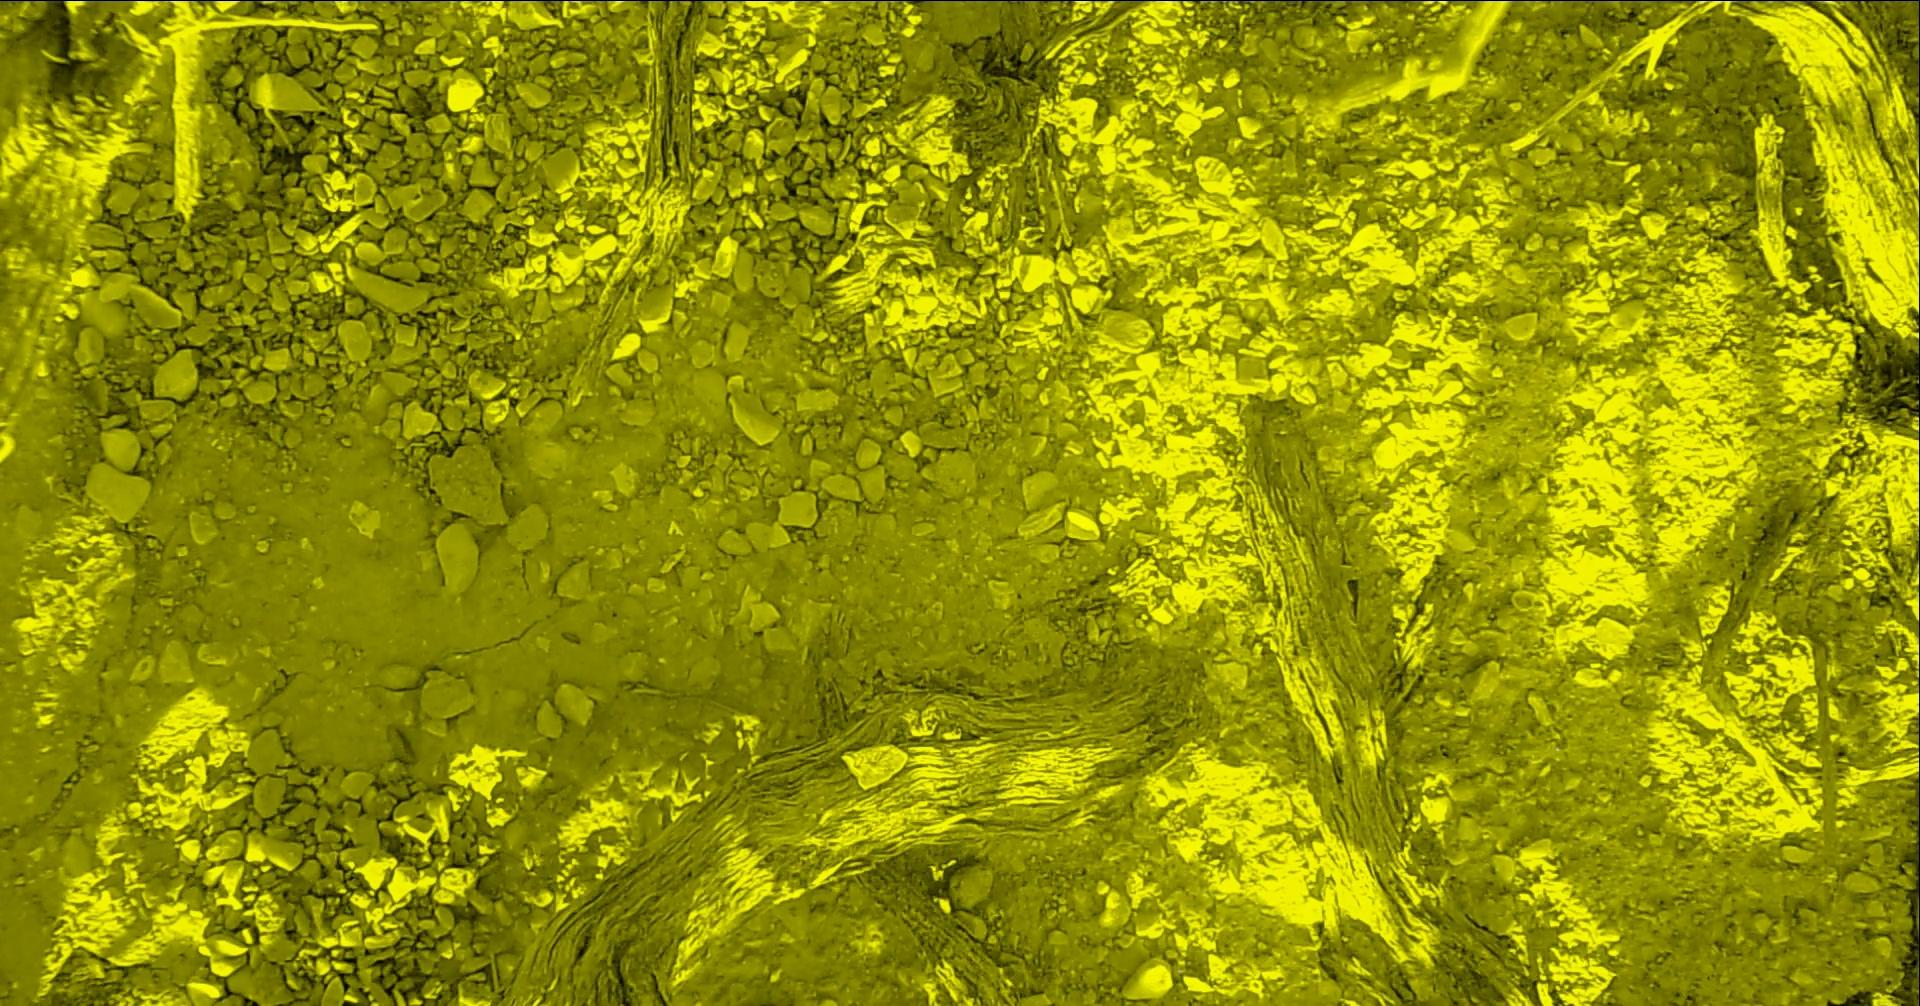ant: (1851, 0, 1920, 8), (1267, 0, 1326, 1)
